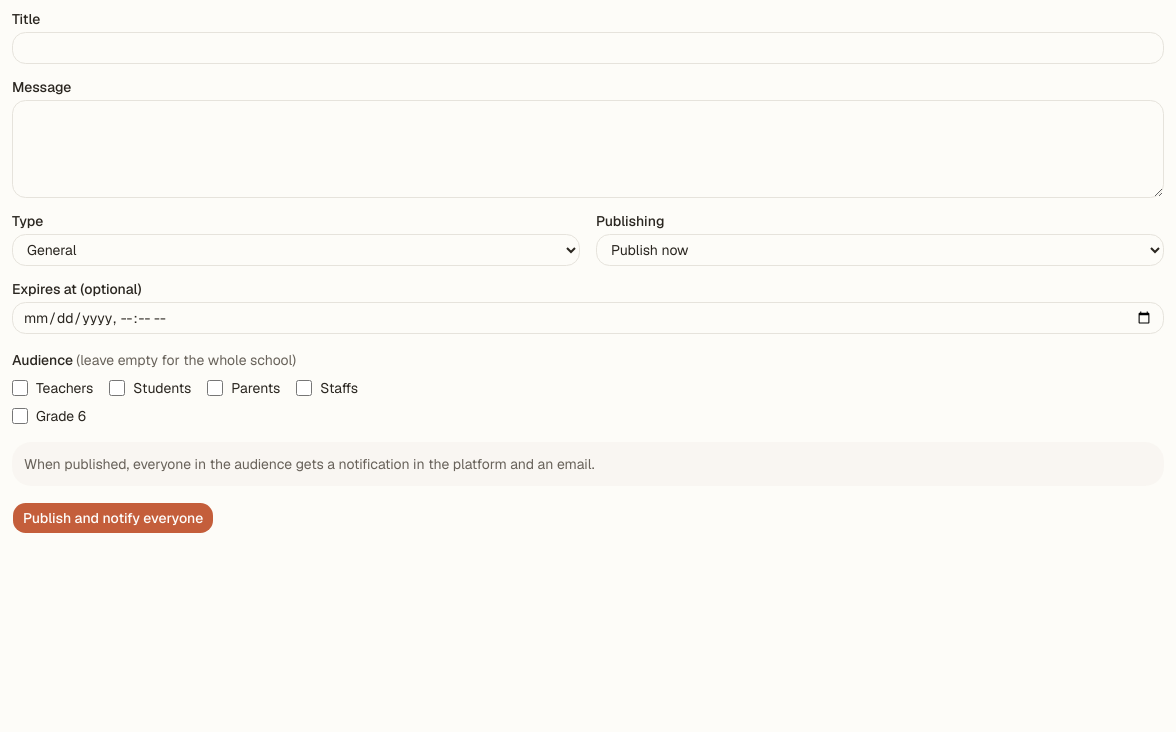
NoticeForm › blocks submission and shows errors when required fields are empty
The width and height of the screenshot is (1176, 732).
Step 1. Click the button "Publish and notify everyone" → (113,518), box [12,502,214,534]
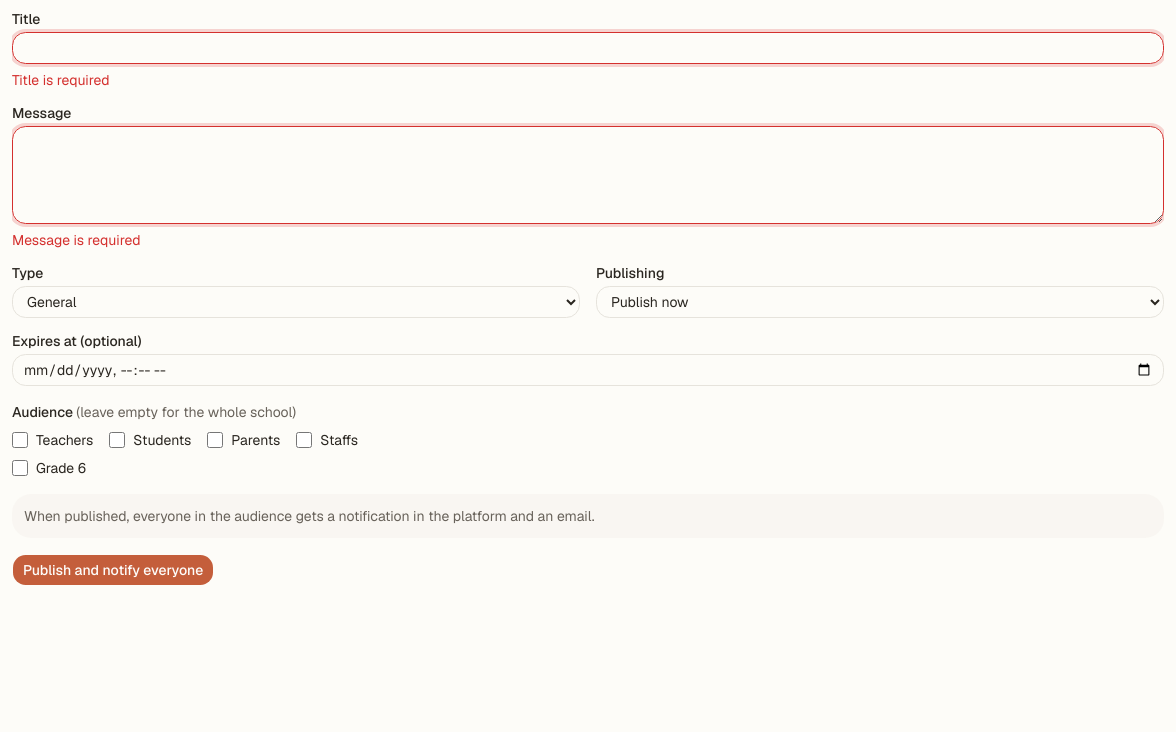
Expected: the text "Title is required" is shown, [12,71,110,89]
Expected: the text "Message is required" is shown, [12,231,140,249]
